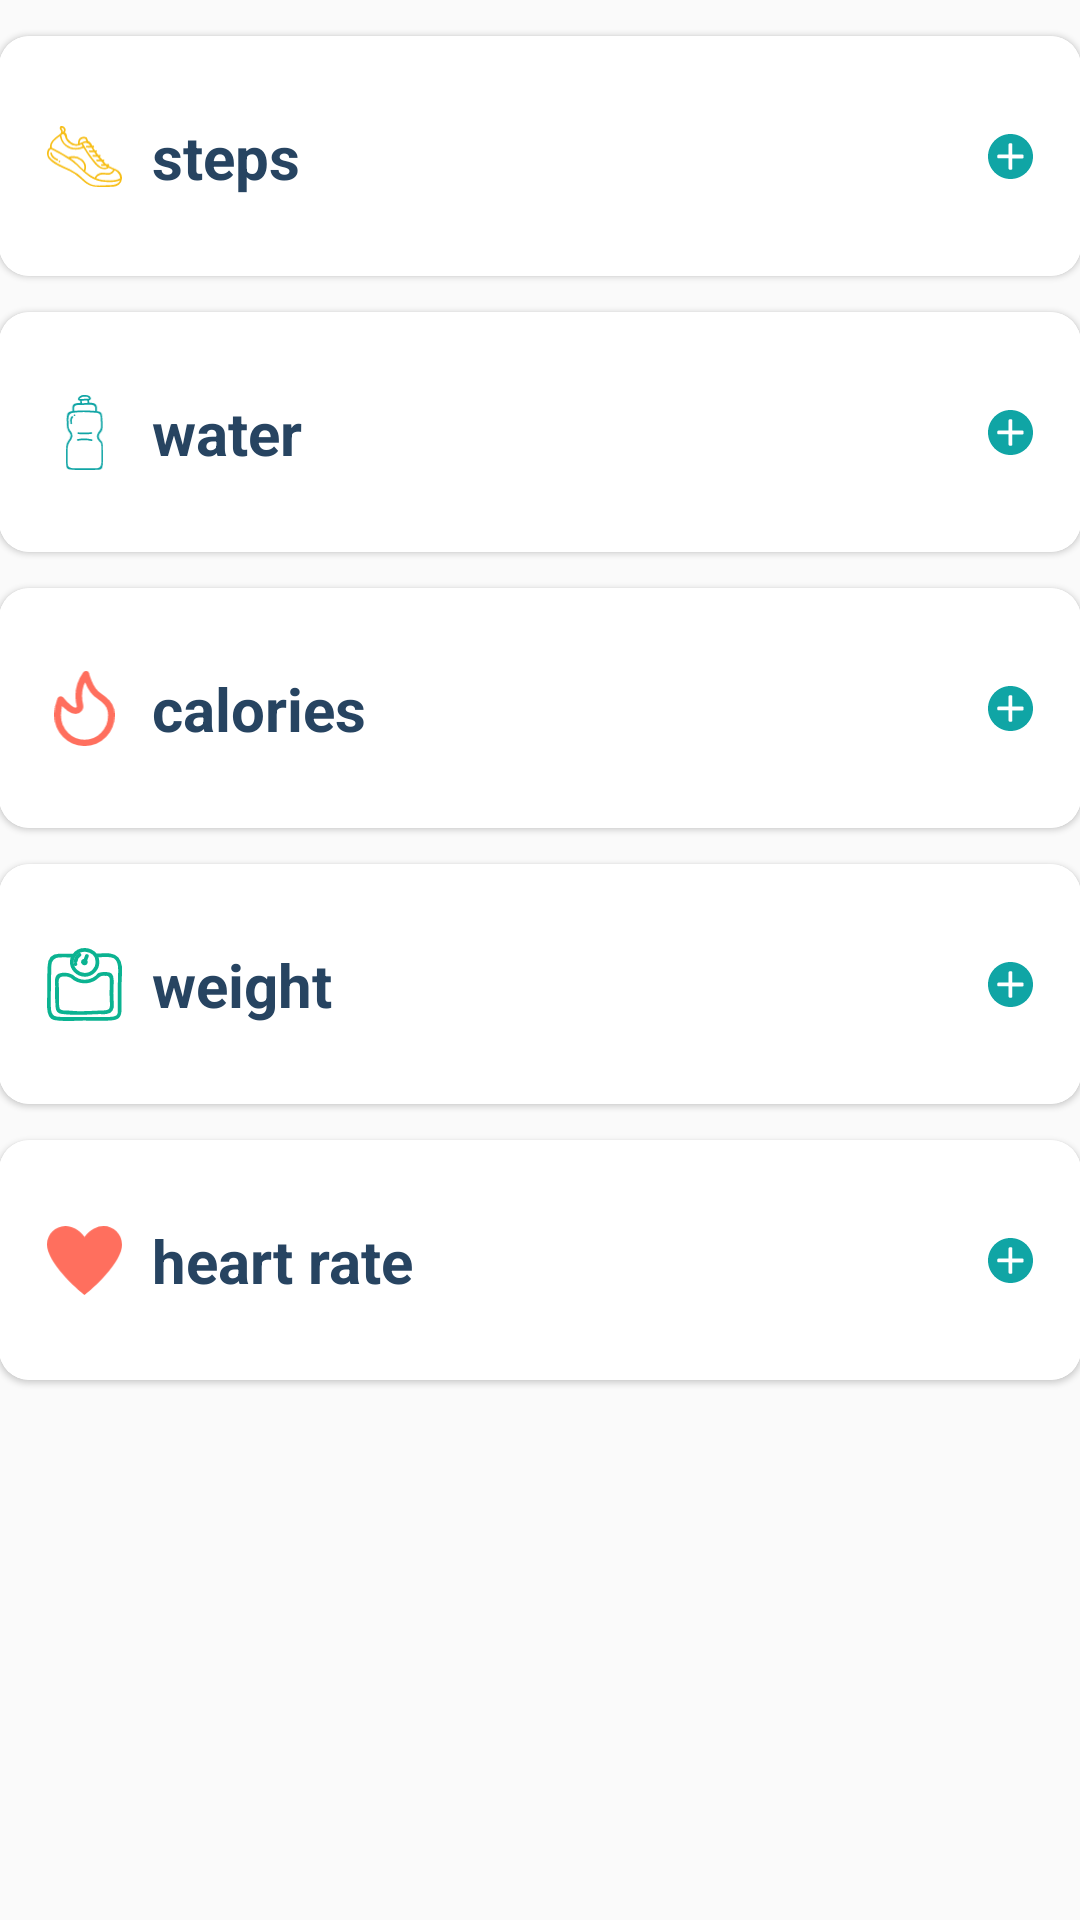

Point at icon controls on the screen. Image size 1080 x 1920, points as (x=x, y=y).
add nav: (x=1010, y=156), (x=1010, y=432), (x=1010, y=708), (x=1010, y=984), (x=1010, y=1260)
fire: (x=84, y=708)
